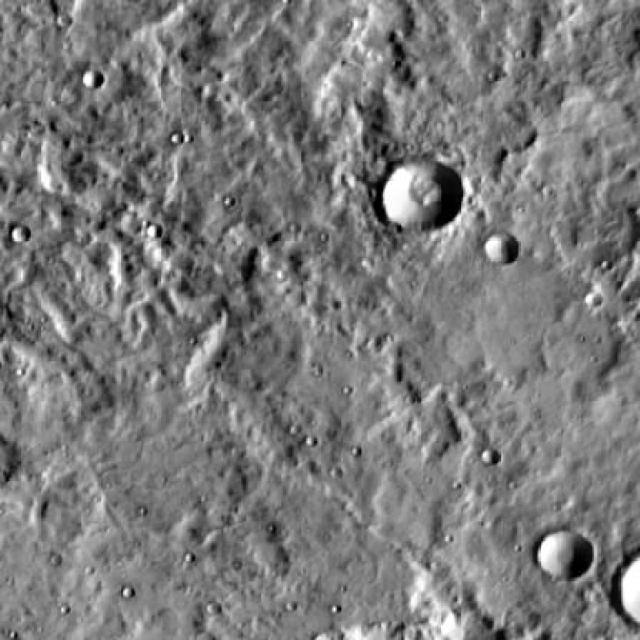crater: (384, 158, 465, 232), (538, 529, 594, 580), (484, 231, 519, 263), (82, 72, 103, 90), (13, 225, 33, 243), (483, 451, 500, 467)
